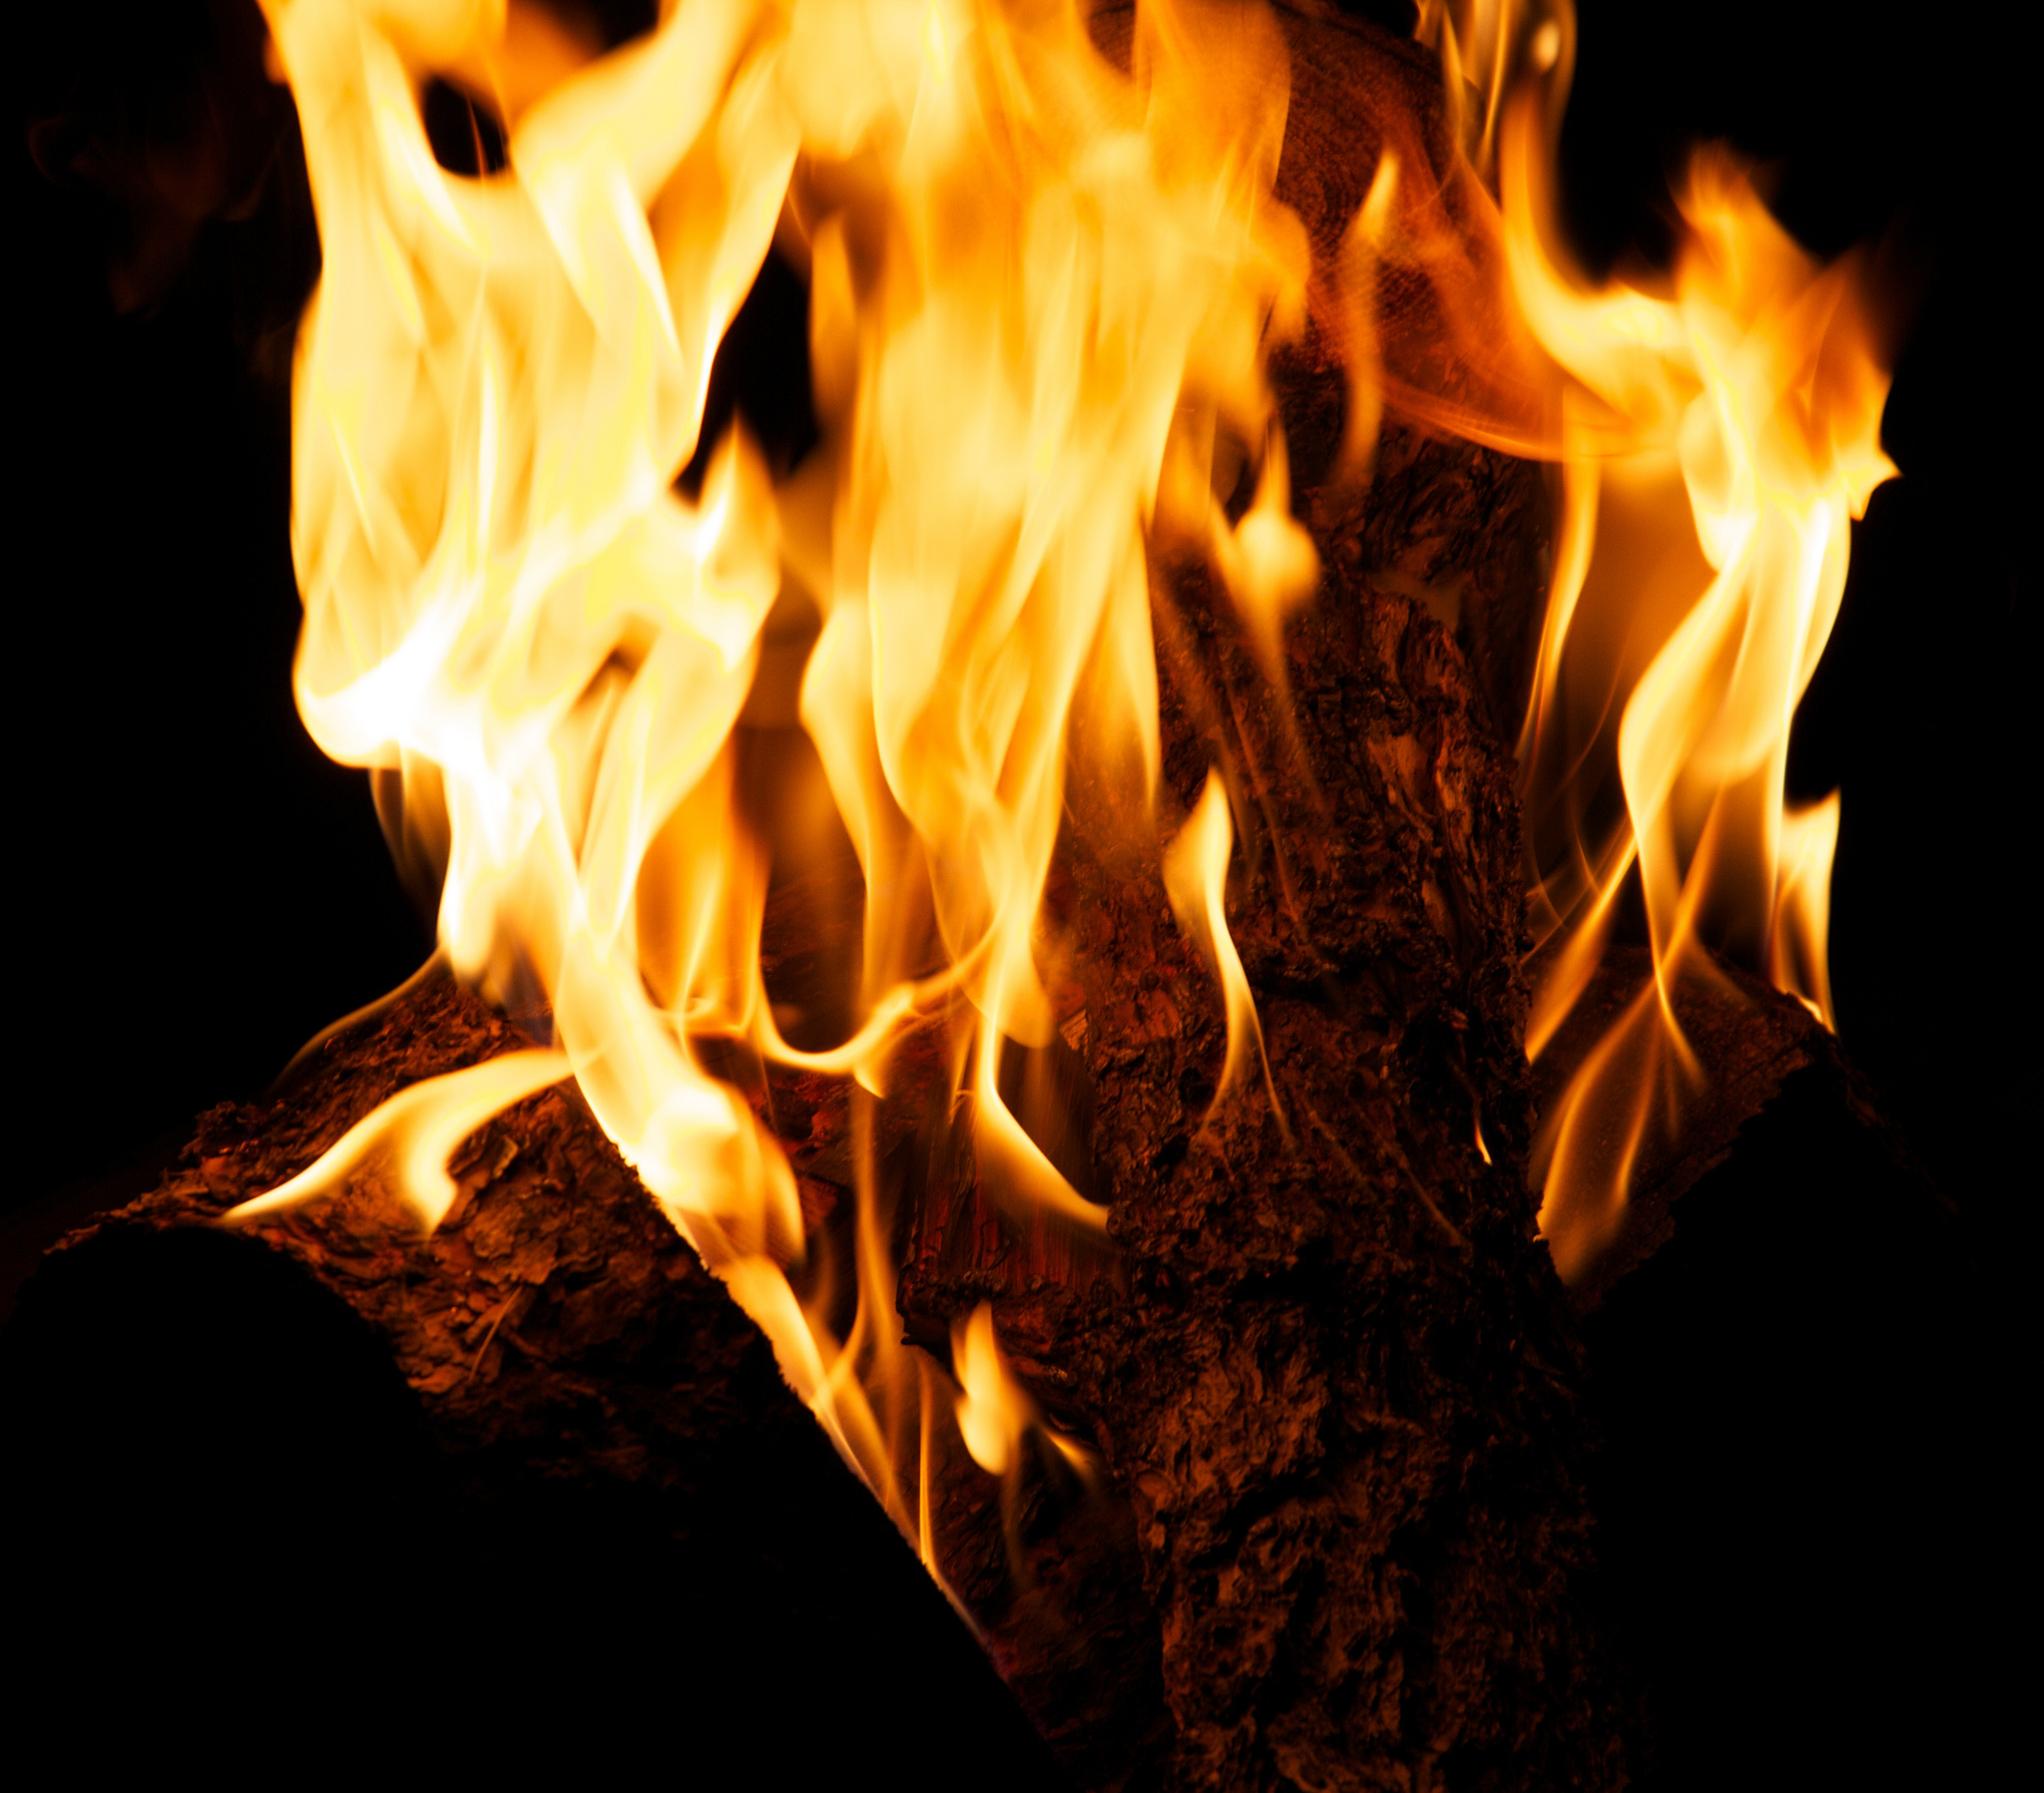fire: (177, 14, 1893, 1385)
